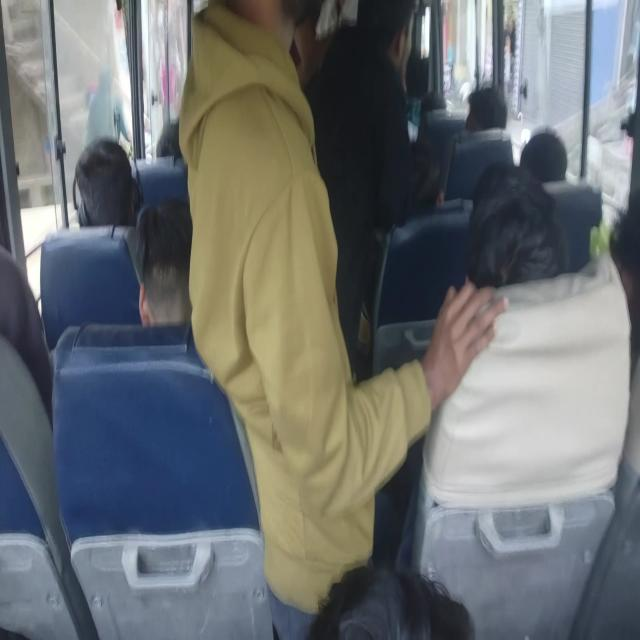person: (309, 538, 530, 640), (200, 8, 322, 144), (0, 239, 60, 453), (471, 201, 563, 335), (136, 224, 218, 366), (67, 138, 140, 223), (367, 0, 419, 92), (611, 226, 640, 378), (388, 144, 451, 212), (466, 87, 519, 154), (518, 128, 562, 179), (413, 92, 452, 136), (157, 118, 180, 160)
